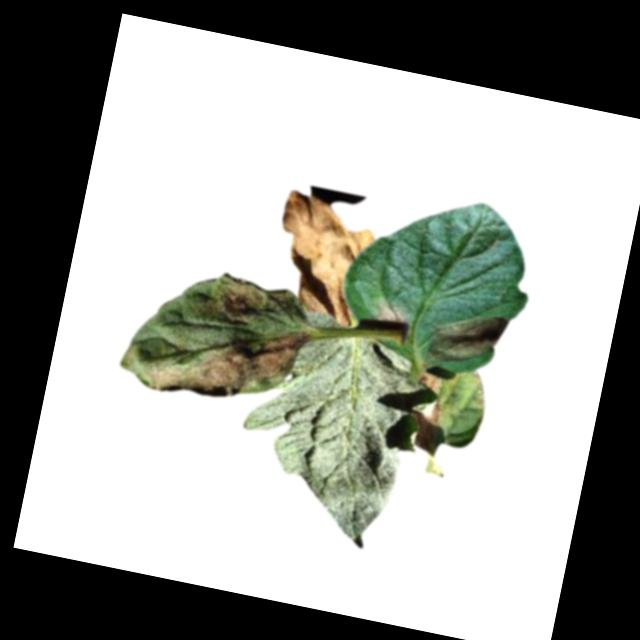Late_blight: (140, 304, 310, 417), (264, 188, 384, 330), (196, 272, 299, 334), (424, 302, 508, 373), (411, 401, 440, 449), (373, 296, 409, 329), (466, 371, 490, 407), (417, 369, 444, 394)
